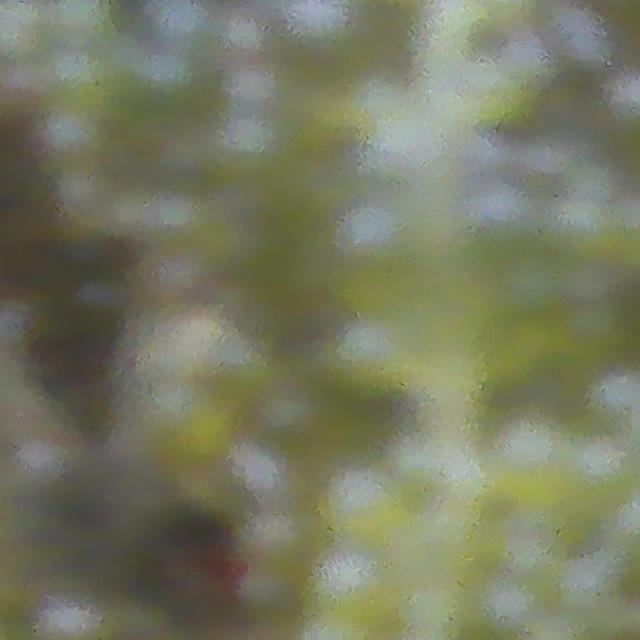SeaGrape: (55, 0, 113, 42)
